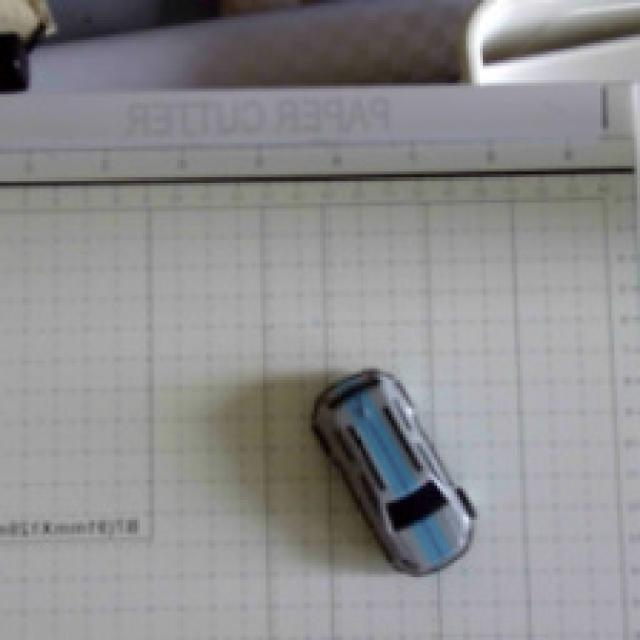Grey Car: (290, 337, 514, 593)
